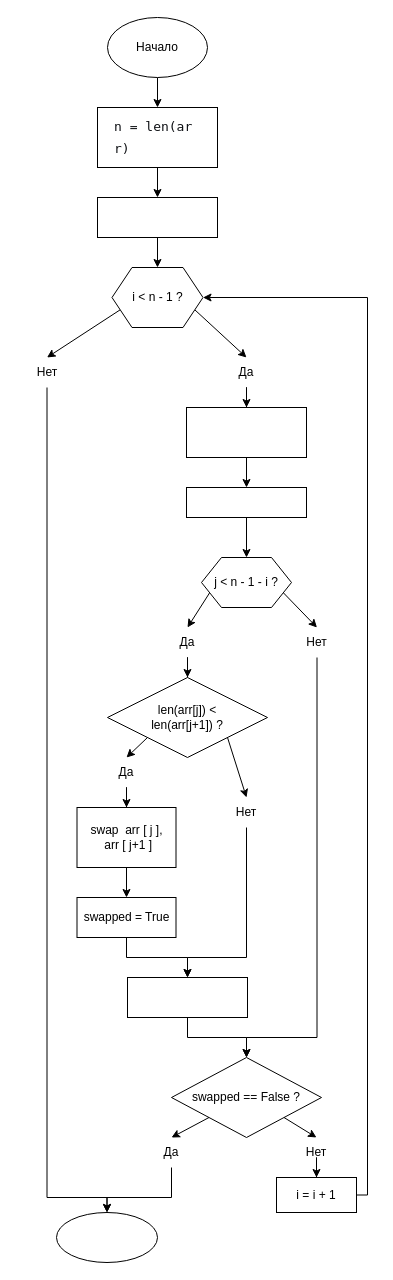
The diagram is 393 pixels wide and 1280 high, and some of its shapes have lost their labels. Here are the shapes that lost their labels. From the top down, the box of each, then its label:
(96, 196, 218, 238): i = 0
(186, 406, 306, 458): swapped = False
(186, 486, 306, 518): j = 0
(126, 976, 248, 1018): j = j + 1
(56, 1212, 158, 1262): Конец
